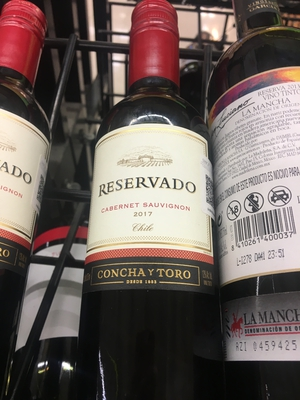reservado cabernet sauvignon: (42, 22, 201, 400)
